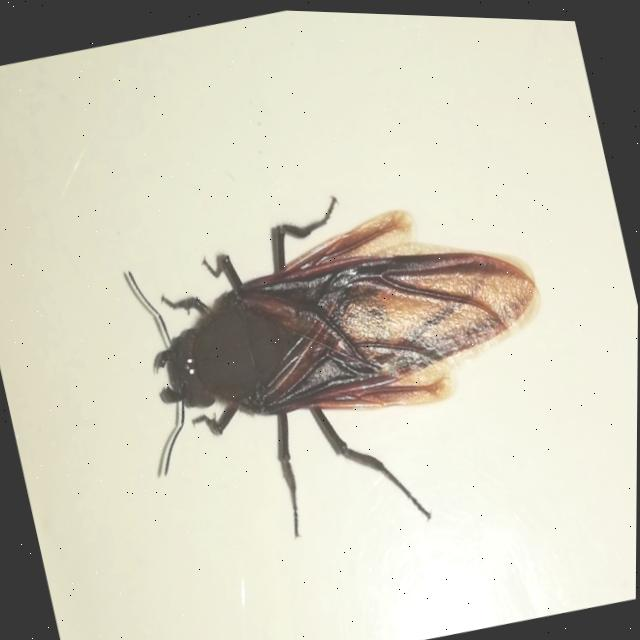Alive-Female-Alate: (104, 145, 589, 582)
